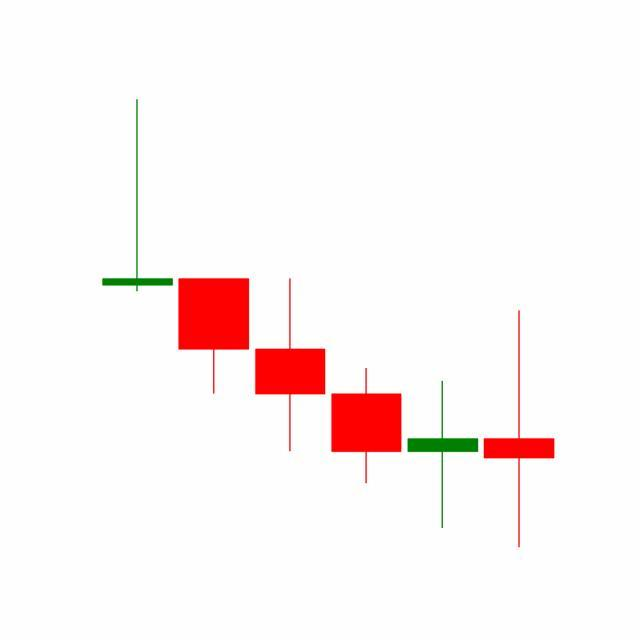Spinning Top: (404, 380, 482, 531)
